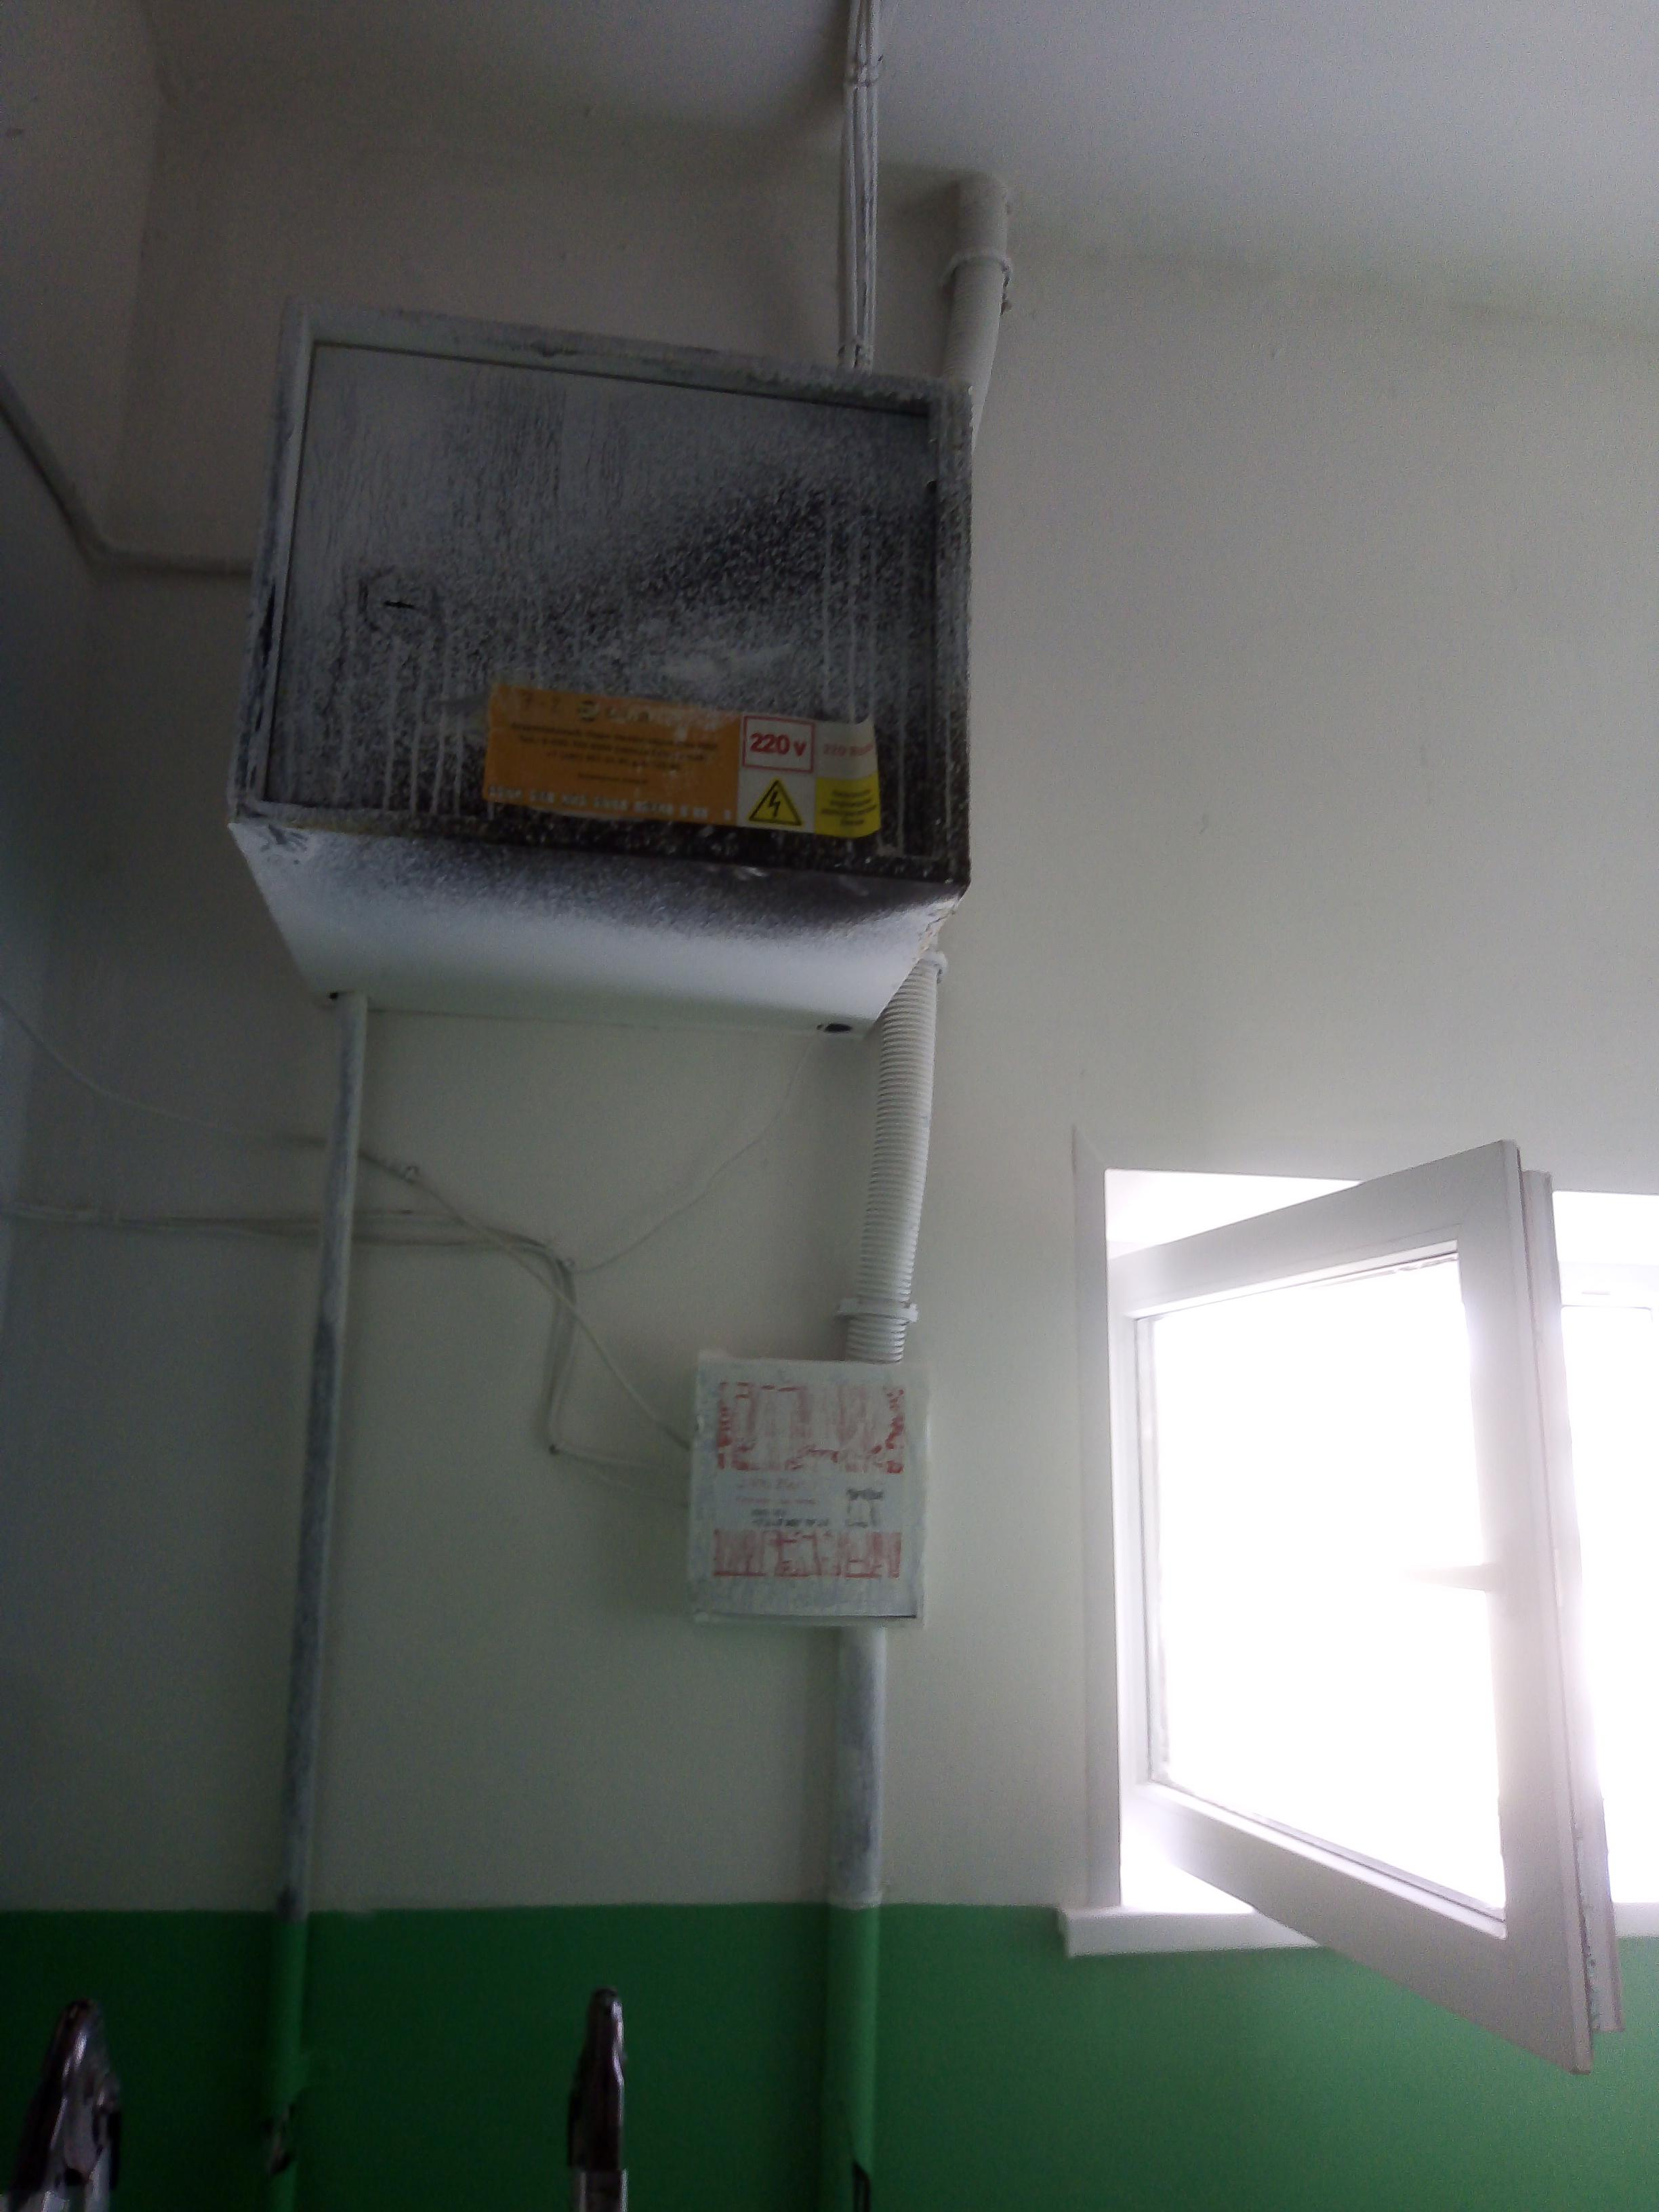shta-9m: (211, 287, 985, 1055)
